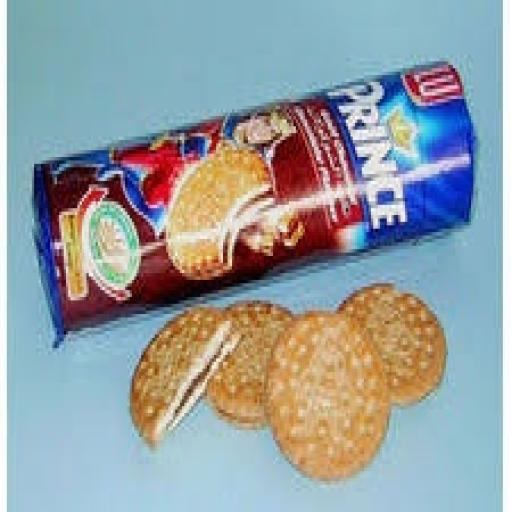prince: (13, 18, 498, 343)
